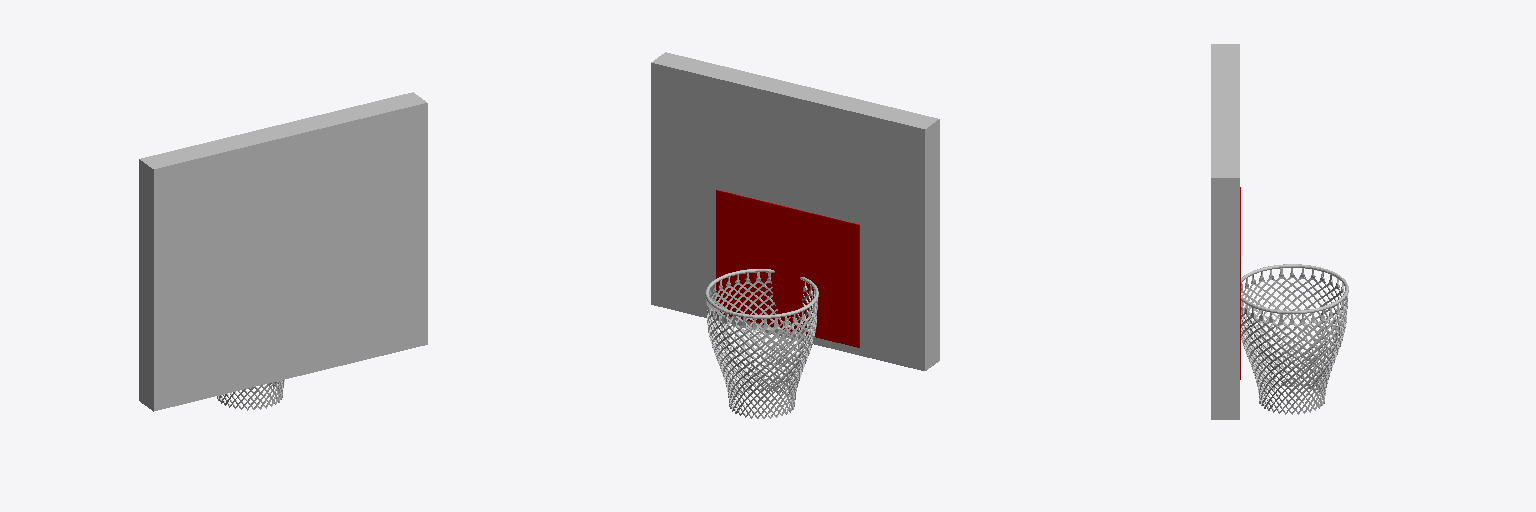
The model's file is basketball.obj.
3 views of the same model, side by side, from view 1: azimuth 30°, elevation 25°; view 2: azimuth 150°, elevation 25°; view 3: azimuth 270°, elevation 25° (orthographic).
Parts seen in each view (by area): view 1: Cube, Cylinder; view 2: Cube, Cube.001, Cylinder, Torus; view 3: Cube, Cylinder, Torus.
Boxes of the visible parts, x1=… form: Cube: x1=139, y1=92, x2=427, y2=411; Cylinder: x1=217, y1=380, x2=284, y2=410; Cube: x1=651, y1=52, x2=939, y2=370; Cube.001: x1=716, y1=190, x2=859, y2=347; Cylinder: x1=706, y1=272, x2=817, y2=418; Torus: x1=705, y1=269, x2=818, y2=318; Cube: x1=1211, y1=44, x2=1239, y2=419; Cylinder: x1=1241, y1=268, x2=1347, y2=414; Torus: x1=1241, y1=264, x2=1348, y2=313.
Bounding box in the file's own units: 5.75 × 5.82 × 2.51.